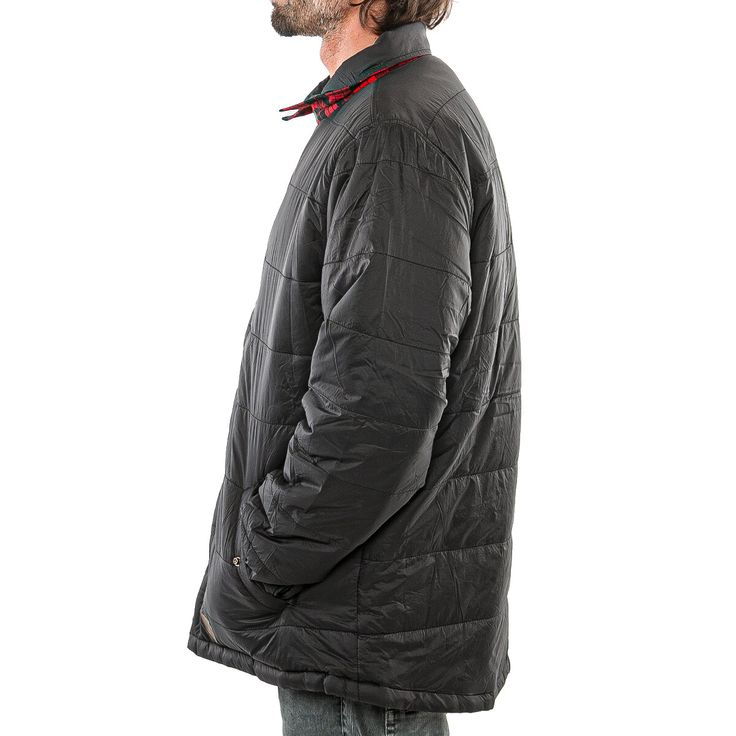nylon: (185, 21, 525, 711)
